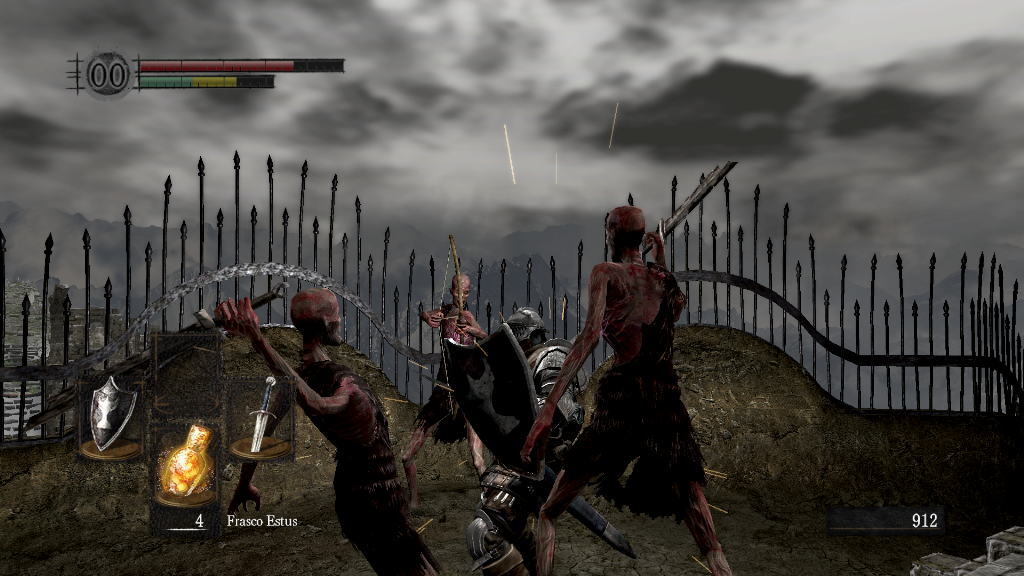health: (138, 58, 343, 71)
hollow: (534, 207, 736, 576), (222, 288, 440, 576), (400, 232, 489, 514)
humanity: (80, 45, 136, 102)
player: (439, 306, 636, 576)
souls: (825, 506, 945, 536)
stamina: (138, 74, 274, 88)
